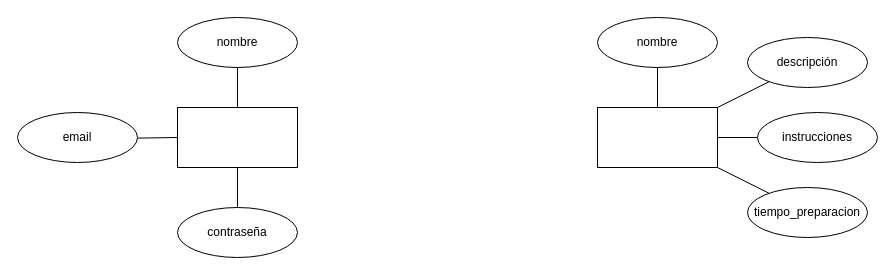
This 895x275 diagram has some shape labels left out. Here are the shapes that lost their labels. From the top down, the centre of each, then its label:
At (x=237, y=137): "Usuario".
At (x=657, y=137): "Receta".
